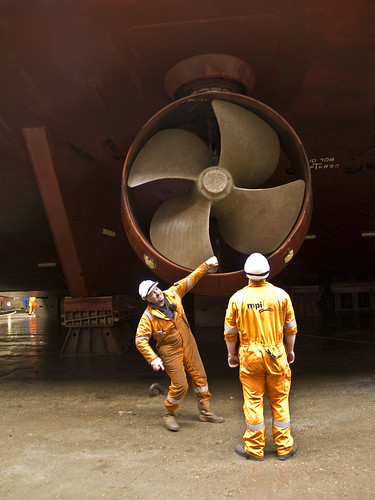person hardhat: (224, 251, 312, 462), (129, 253, 224, 435)
